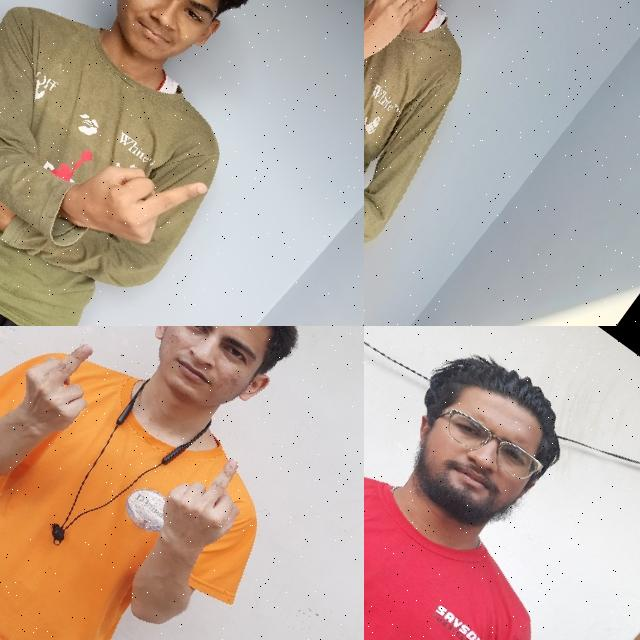Chin Flick: (364, 0, 586, 119)
Middle Finger: (56, 118, 225, 282), (134, 430, 273, 576), (0, 326, 126, 456)
Okay: (465, 595, 640, 640)
